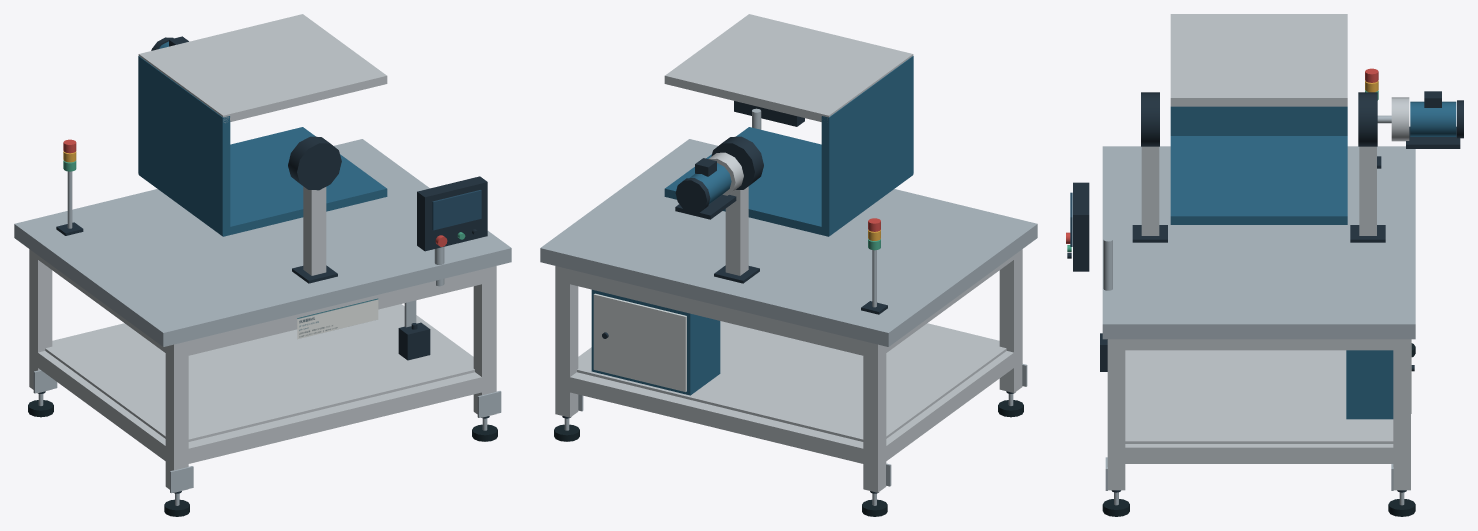
Rendered from pile-turner.glb.
The picture shows the model from 3 angles, left to right: view 1: azimuth 30°, elevation 25°; view 2: azimuth 150°, elevation 25°; view 3: azimuth 270°, elevation 25°; orthographic projection. The views are drawn at different scales.
Visible parts, largest first — view 1: ClosedMachineBed_28, LowerShelf_29, CradleClamp_56, CradleBack_55, CradleBottom_54, SlottedExtrusion_22, SlottedExtrusion_23, SlottedExtrusion_8, SlottedExtrusion_24, ConsoleBack_34, SlottedExtrusion_18, SlottedExtrusion_3 (+7 smaller); view 2: ClosedMachineBed_28, LowerShelf_29, CradleClamp_56, CradleBack_55, BackDoor_31, CradleBottom_54, SlottedExtrusion_20, SlottedExtrusion_21, SlottedExtrusion_3, Cabinet_30, SlottedExtrusion_13, SlottedExtrusion_24 (+9 smaller); view 3: ClosedMachineBed_28, LowerShelf_29, CradleClamp_56, CradleBottom_54, SlottedExtrusion_26, CradleBack_55, Cabinet_30, SlottedExtrusion_27, SlottedExtrusion_18, SlottedExtrusion_13, SlottedExtrusion_52, SlottedExtrusion_49 (+9 smaller).
Boxes of the visible parts, <box> form: ClosedMachineBed_28: <box>14,139,511,346</box>; LowerShelf_29: <box>45,305,474,441</box>; CradleClamp_56: <box>138,14,387,122</box>; CradleBack_55: <box>138,56,230,235</box>; CradleBottom_54: <box>138,127,387,236</box>; SlottedExtrusion_22: <box>182,372,489,464</box>; SlottedExtrusion_23: <box>181,268,489,355</box>; SlottedExtrusion_8: <box>165,341,188,492</box>; SlottedExtrusion_24: <box>33,350,169,464</box>; ConsoleBack_34: <box>417,176,487,251</box>; SlottedExtrusion_18: <box>473,266,496,417</box>; SlottedExtrusion_3: <box>29,249,52,392</box>; ClosedMachineBed_28: <box>540,139,1037,346</box>; LowerShelf_29: <box>577,321,1006,441</box>; CradleClamp_56: <box>664,14,913,121</box>; CradleBack_55: <box>821,56,913,235</box>; BackDoor_31: <box>593,293,686,391</box>; CradleBottom_54: <box>664,127,913,236</box>; SlottedExtrusion_20: <box>562,372,870,463</box>; SlottedExtrusion_21: <box>562,268,870,356</box>; SlottedExtrusion_3: <box>863,341,886,492</box>; Cabinet_30: <box>591,289,720,395</box>; SlottedExtrusion_13: <box>555,266,578,417</box>; SlottedExtrusion_24: <box>882,350,1018,462</box>; ClosedMachineBed_28: <box>1102,146,1415,339</box>; LowerShelf_29: <box>1125,350,1393,443</box>; CradleClamp_56: <box>1170,14,1347,106</box>; CradleBottom_54: <box>1170,136,1347,224</box>; SlottedExtrusion_26: <box>1116,444,1401,463</box>; CradleBack_55: <box>1170,106,1347,135</box>; Cabinet_30: <box>1346,350,1393,419</box>; SlottedExtrusion_27: <box>1116,339,1401,350</box>; SlottedExtrusion_18: <box>1107,339,1125,490</box>; SlottedExtrusion_13: <box>1393,339,1410,490</box>; SlottedExtrusion_52: <box>1141,146,1159,235</box>; SlottedExtrusion_49: <box>1359,146,1376,235</box>.
Bounding box in the file's own units: 1.55 × 1.53 × 1.46.
11 materials, 1 textured.
